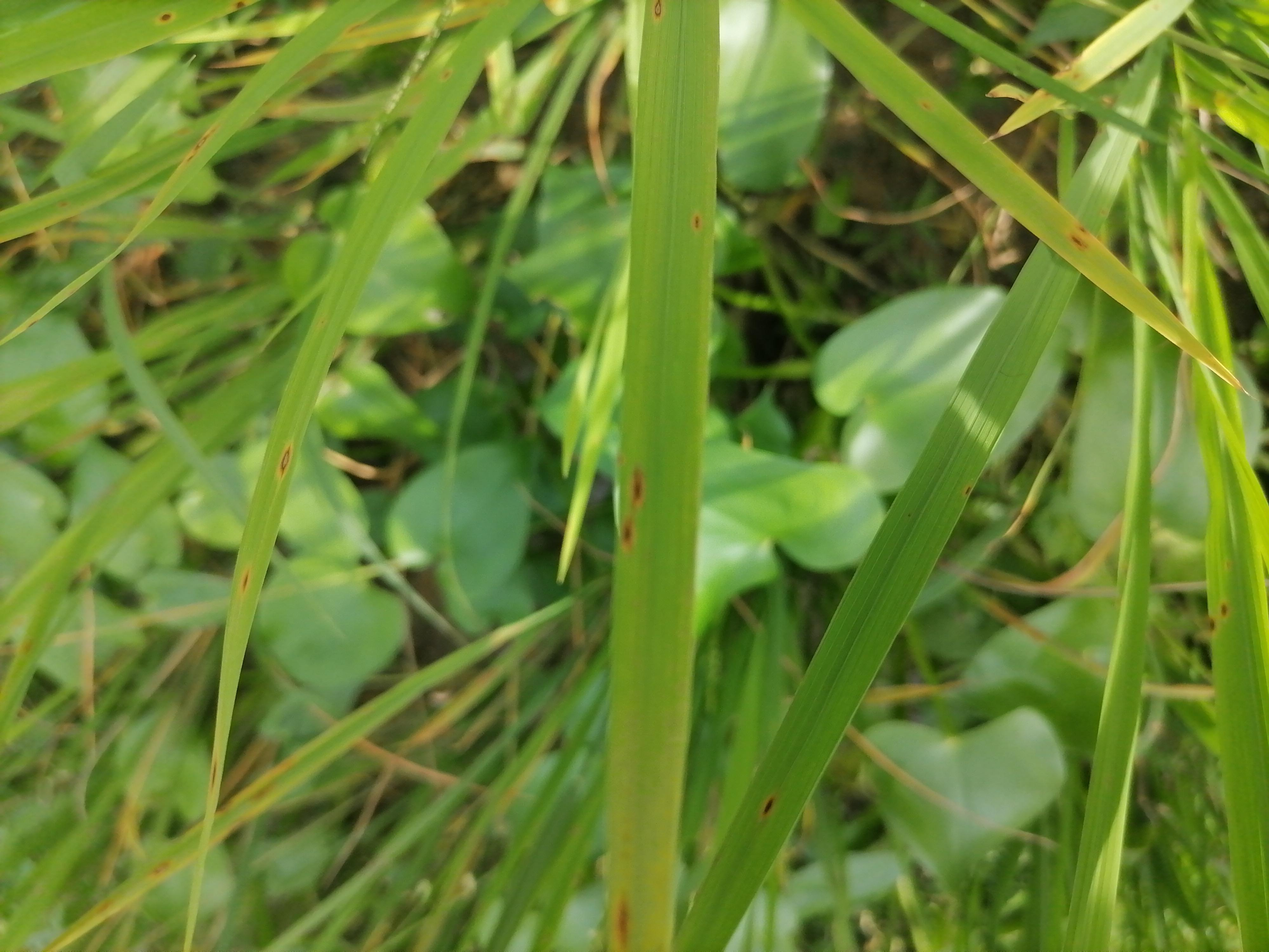Brown spot: (615, 395, 649, 484)
